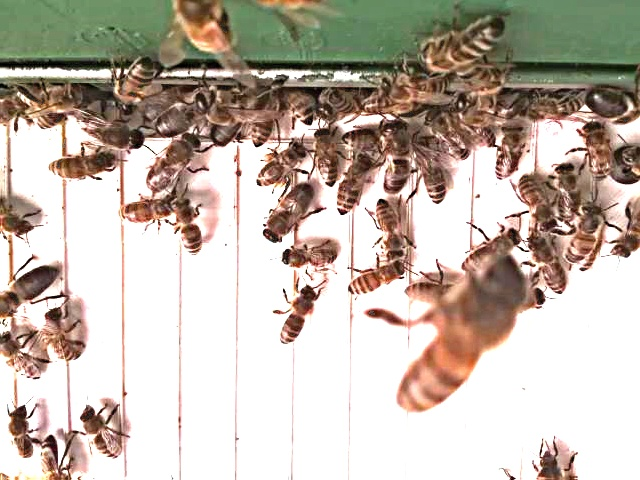Drone: (258, 183, 315, 249), (142, 136, 202, 197), (151, 89, 211, 144), (74, 109, 143, 155), (0, 264, 56, 320), (380, 118, 414, 201), (579, 85, 640, 124)
Worker: (253, 143, 308, 193), (526, 233, 566, 298), (425, 110, 473, 164), (80, 405, 125, 461), (277, 284, 315, 349), (564, 202, 602, 266), (43, 152, 116, 185), (373, 197, 410, 261), (39, 309, 80, 366), (514, 177, 556, 232), (334, 157, 370, 220), (578, 119, 611, 187), (0, 332, 42, 385), (494, 125, 531, 185), (413, 141, 446, 208), (170, 197, 203, 260), (343, 265, 404, 299), (116, 199, 181, 229), (552, 161, 582, 225), (313, 127, 343, 188), (5, 404, 35, 463), (278, 244, 338, 273)
